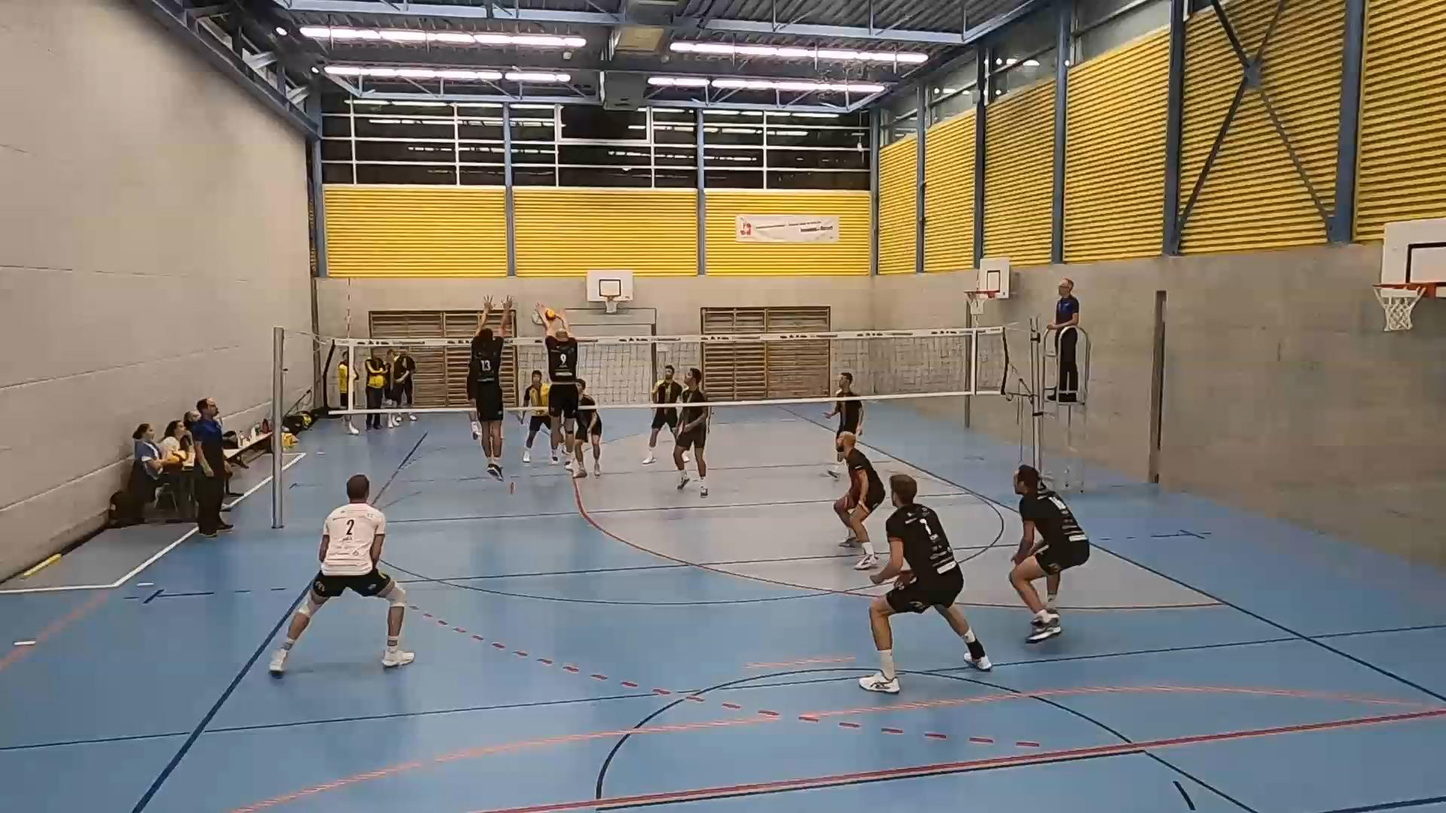Block: (540, 313, 589, 470), (469, 300, 510, 483)
Player: (859, 474, 991, 693), (270, 474, 413, 675), (1009, 466, 1090, 642), (467, 297, 511, 480), (834, 431, 884, 570), (673, 367, 710, 496), (518, 370, 548, 463), (574, 379, 602, 477), (642, 406, 678, 464), (825, 400, 864, 439)
